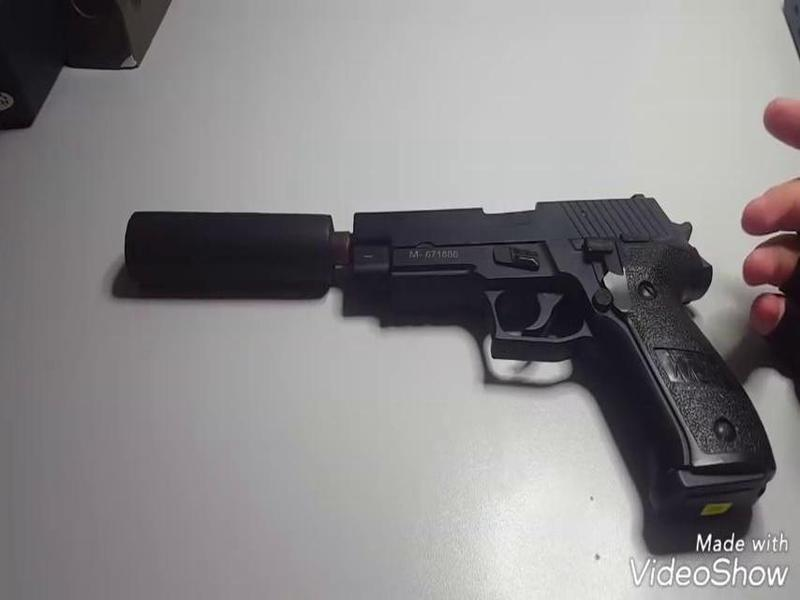Pistola: (94, 101, 796, 484)
